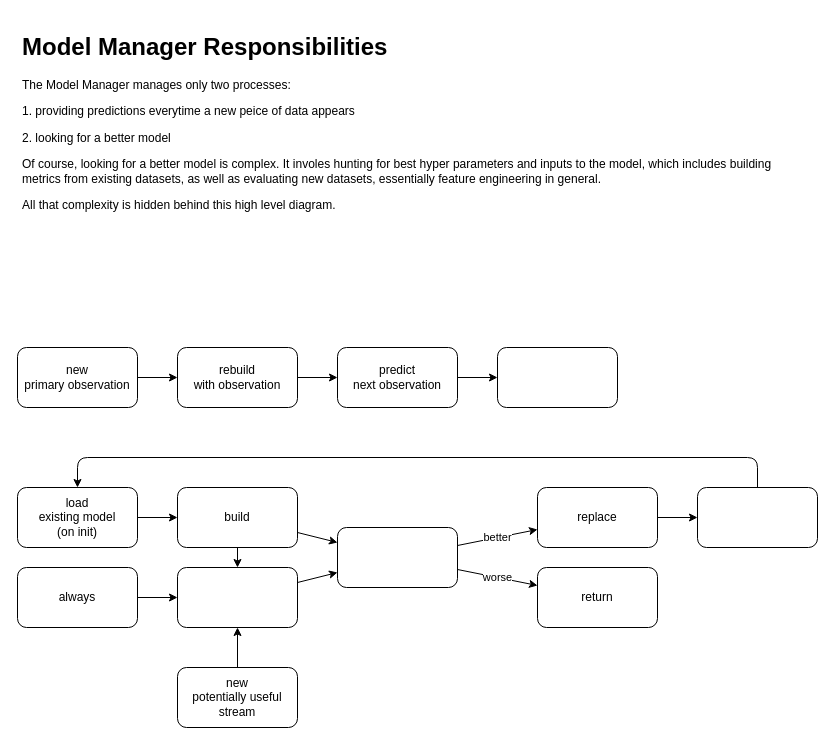
This 835x745 diagram has some shape labels left out. Here are the shapes that lost their labels. From the top down, the centre of each, then its label:
At (x=557, y=377): "publish".
At (x=757, y=517): "save model".
At (x=397, y=557): "evaluate both models".
At (x=237, y=597): "explore other models".
